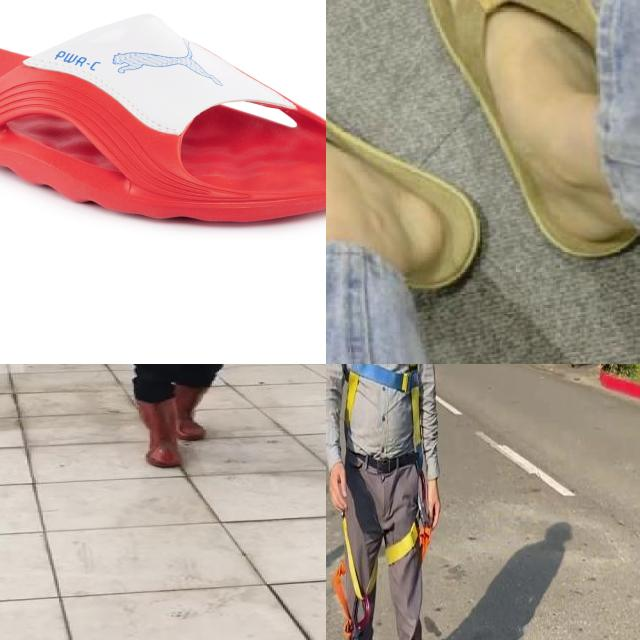Harness: (332, 518, 431, 640), (346, 364, 422, 450)
Sandals: (0, 11, 326, 224), (414, 0, 640, 292), (326, 64, 494, 288)
boots: (138, 399, 184, 468), (180, 386, 216, 441)
person: (80, 364, 288, 479)
